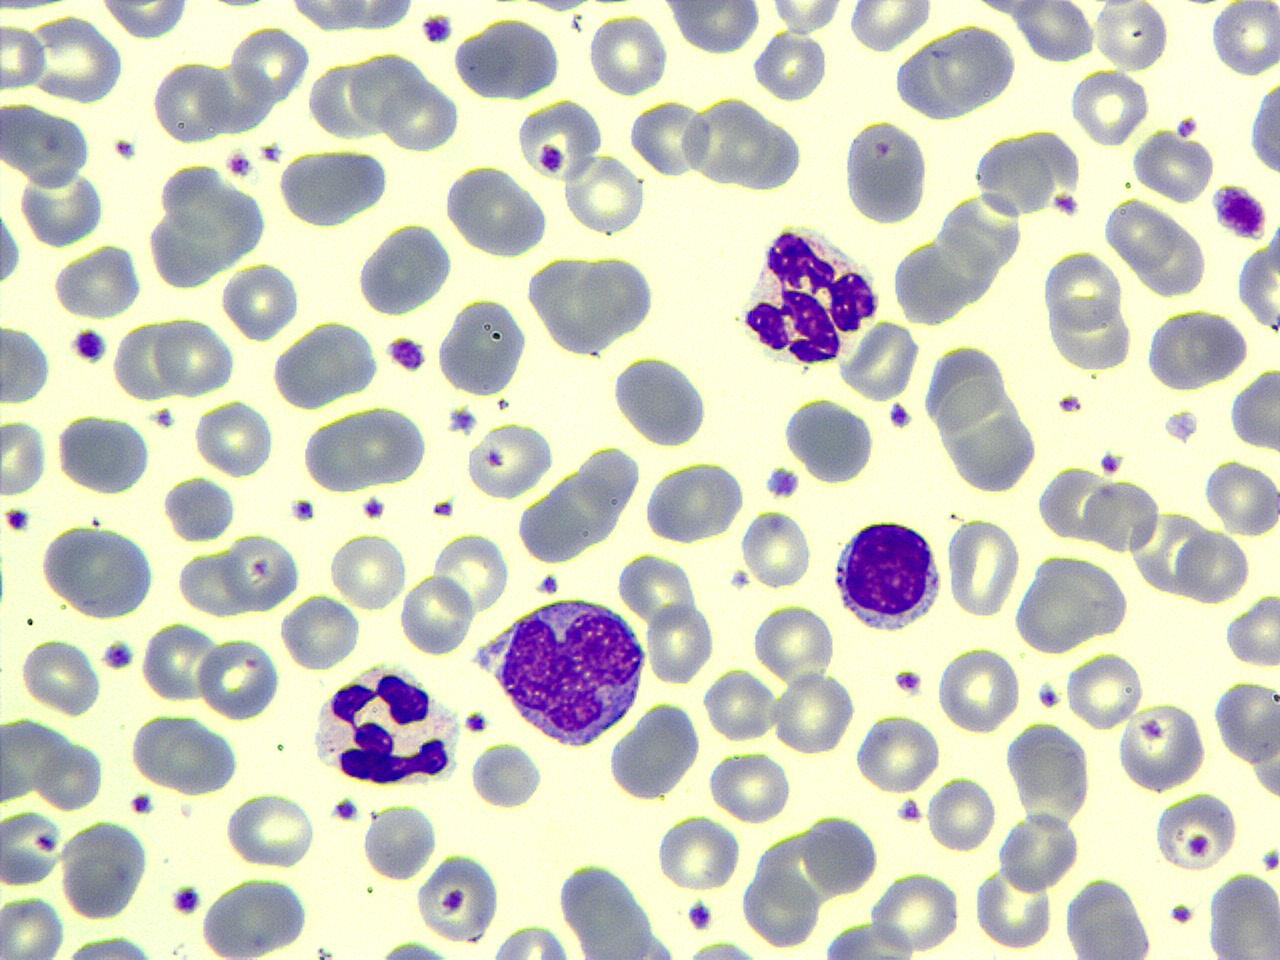Platelets: (1208, 182, 1270, 240), (383, 333, 431, 374), (678, 937, 762, 960), (376, 938, 450, 960), (70, 326, 110, 366), (1161, 407, 1203, 445), (763, 463, 802, 502), (418, 10, 455, 47), (99, 638, 136, 672), (169, 882, 204, 918), (684, 898, 716, 934), (225, 148, 256, 178), (1050, 190, 1082, 218), (896, 795, 926, 824), (887, 400, 915, 432), (1035, 680, 1063, 710), (449, 407, 479, 436), (892, 668, 924, 694), (3, 504, 32, 532), (290, 496, 318, 524), (1168, 902, 1200, 926), (111, 135, 137, 162), (1098, 449, 1124, 476), (129, 790, 156, 816), (332, 797, 359, 822), (1258, 846, 1280, 876), (462, 710, 489, 734), (1057, 392, 1085, 414), (152, 405, 176, 431), (361, 496, 386, 520), (535, 572, 559, 596), (727, 568, 751, 591), (430, 498, 456, 518)
RBC: (142, 166, 268, 294), (1011, 551, 1133, 655), (37, 520, 156, 622), (305, 405, 429, 492), (1005, 716, 1095, 834), (270, 317, 380, 412), (443, 162, 551, 259), (273, 142, 393, 229), (450, 14, 564, 101), (839, 118, 930, 226), (436, 294, 530, 399), (200, 873, 312, 959), (1140, 306, 1250, 392), (640, 456, 746, 546), (612, 353, 712, 448), (130, 713, 242, 797), (58, 818, 150, 920), (782, 394, 880, 485), (28, 12, 123, 104), (1116, 700, 1208, 793), (53, 411, 153, 497), (926, 21, 1018, 113), (0, 99, 94, 188), (945, 514, 1023, 620), (920, 341, 1008, 434), (869, 868, 961, 955), (414, 851, 500, 944), (685, 93, 768, 189), (1062, 875, 1156, 959), (936, 644, 1021, 736), (196, 634, 281, 724), (464, 418, 556, 501), (577, 252, 658, 344), (1150, 790, 1238, 874), (587, 10, 670, 99), (974, 862, 1055, 953), (854, 712, 944, 794), (515, 97, 604, 179), (974, 132, 1056, 220), (51, 242, 144, 320), (997, 810, 1081, 894), (837, 318, 920, 403), (655, 813, 742, 895), (224, 790, 314, 868), (18, 634, 103, 718), (16, 166, 105, 246), (432, 529, 512, 618), (562, 152, 646, 236), (752, 600, 836, 684), (1041, 248, 1123, 334), (772, 670, 854, 755), (1204, 868, 1280, 960), (150, 58, 230, 145), (618, 548, 700, 630), (152, 314, 235, 396), (220, 259, 302, 342), (1063, 648, 1145, 732), (193, 396, 275, 478), (1045, 293, 1133, 370), (399, 570, 475, 658), (626, 96, 708, 177), (228, 23, 308, 106), (800, 812, 880, 894), (706, 748, 792, 824), (1215, 674, 1280, 774), (1068, 68, 1150, 146), (1133, 126, 1215, 204), (360, 800, 436, 883), (739, 505, 813, 591), (140, 620, 218, 702), (280, 592, 362, 670), (329, 530, 406, 612), (644, 598, 716, 686), (1083, 475, 1163, 554), (1203, 456, 1279, 538), (224, 532, 300, 612), (752, 26, 830, 103), (380, 78, 460, 153), (1175, 525, 1251, 604), (703, 664, 778, 742), (926, 772, 998, 854), (1092, 0, 1170, 74), (176, 545, 252, 619), (662, 0, 762, 56), (33, 736, 107, 812), (1209, 0, 1279, 77), (162, 473, 236, 544), (468, 739, 542, 809), (1014, 1, 1098, 63), (1, 806, 63, 886), (846, 0, 934, 53), (0, 320, 54, 406), (1235, 231, 1280, 335), (1229, 365, 1279, 455), (814, 918, 924, 958), (1224, 591, 1280, 669), (2, 891, 66, 959), (96, 0, 191, 40), (0, 417, 48, 497), (0, 20, 47, 93), (488, 922, 574, 960), (764, 0, 848, 35), (1, 192, 24, 292)
WBC: (477, 590, 652, 751), (734, 219, 882, 375), (310, 658, 466, 792), (144, 158, 272, 294), (530, 247, 659, 359), (830, 516, 948, 636), (39, 519, 159, 622), (309, 402, 434, 491), (354, 218, 458, 320), (450, 12, 566, 102), (607, 698, 705, 804), (840, 116, 930, 230), (612, 351, 716, 450), (436, 293, 531, 399), (60, 817, 154, 924), (201, 872, 312, 959), (276, 321, 379, 412), (278, 147, 394, 228), (1145, 305, 1251, 392), (55, 409, 153, 500), (782, 393, 876, 487), (270, 0, 428, 35), (814, 920, 924, 959), (1248, 69, 1280, 182), (51, 929, 166, 958)
